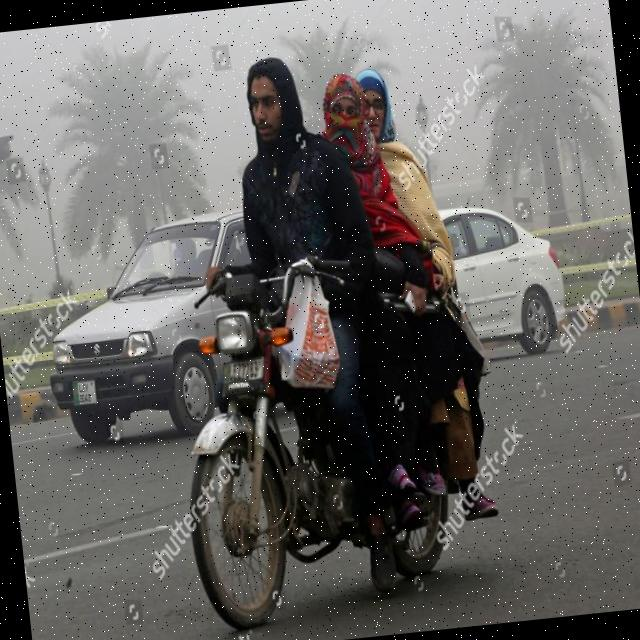Triple riding: (230, 41, 456, 433)
